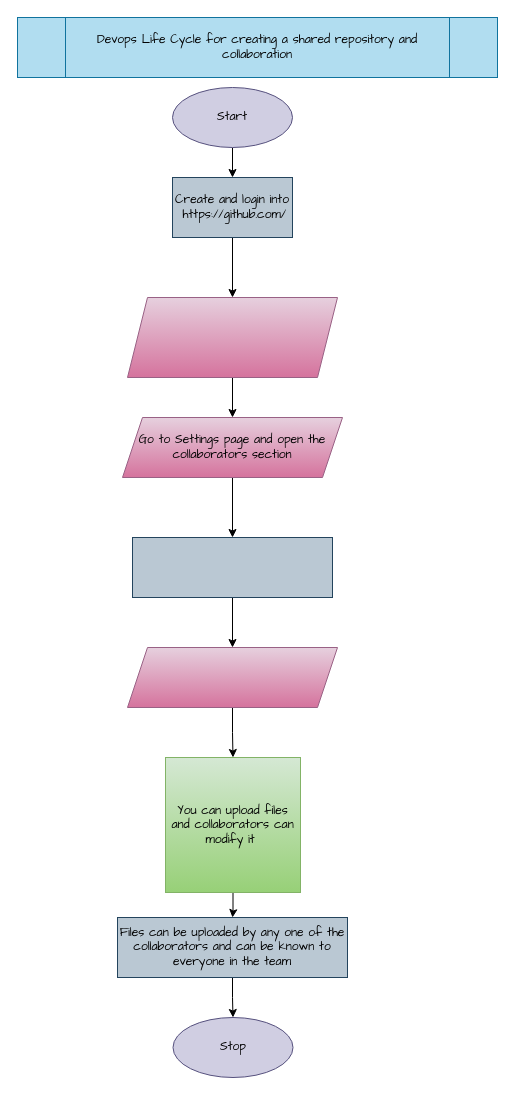
Image size: 515x1095. Some labels were removed from this diagram. Each missing label, with the centre of its shape:
Create a new repository of your own choice and make it public: [232,337]
Search for your collaborator id and click on it to send an invitation to them: [232,567]
The collaborator must accept your invitation to proceed: [232,677]
